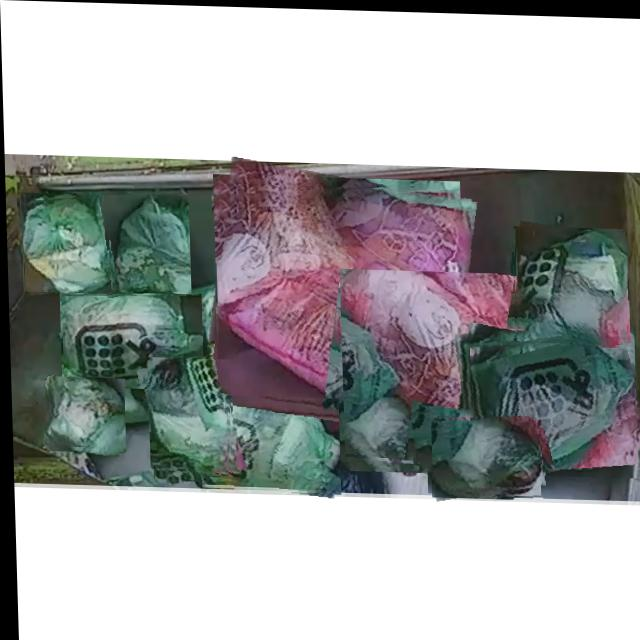general_trashbag: (468, 337, 632, 471), (196, 395, 336, 492), (513, 228, 626, 341), (61, 294, 198, 387), (146, 358, 227, 474), (430, 414, 539, 495), (21, 198, 107, 293), (107, 195, 189, 294), (46, 377, 122, 449)
other_trashbag: (214, 186, 471, 423), (339, 268, 536, 468)
